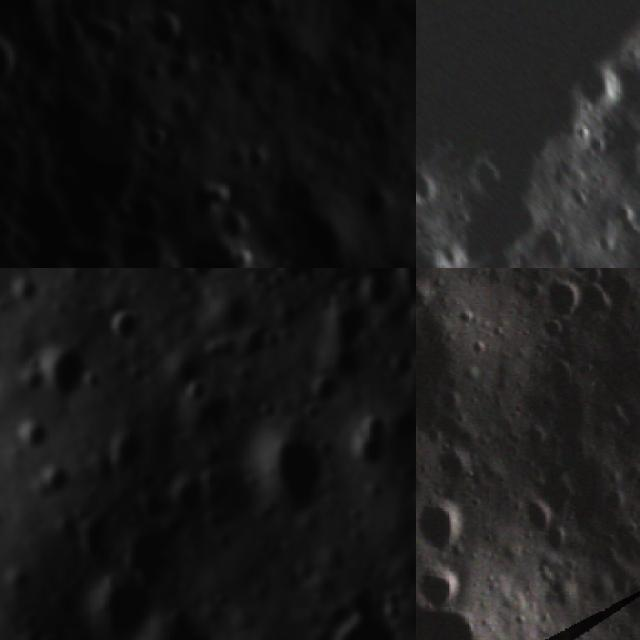crater: (250, 414, 335, 520), (84, 571, 163, 640), (278, 201, 357, 268), (32, 331, 104, 402), (116, 516, 183, 583), (321, 598, 407, 640), (568, 55, 628, 113), (416, 495, 462, 556), (6, 412, 58, 463), (507, 495, 558, 540), (541, 272, 583, 326), (417, 564, 462, 614), (32, 462, 79, 506), (300, 368, 345, 412), (463, 152, 506, 198), (105, 302, 145, 351), (140, 8, 184, 50), (174, 369, 214, 406), (135, 121, 172, 160), (267, 268, 338, 287), (240, 139, 278, 174), (212, 210, 250, 243), (164, 94, 198, 128), (136, 56, 170, 90), (195, 42, 229, 76), (223, 243, 261, 268), (177, 268, 223, 283), (216, 0, 262, 11), (405, 296, 416, 335)
